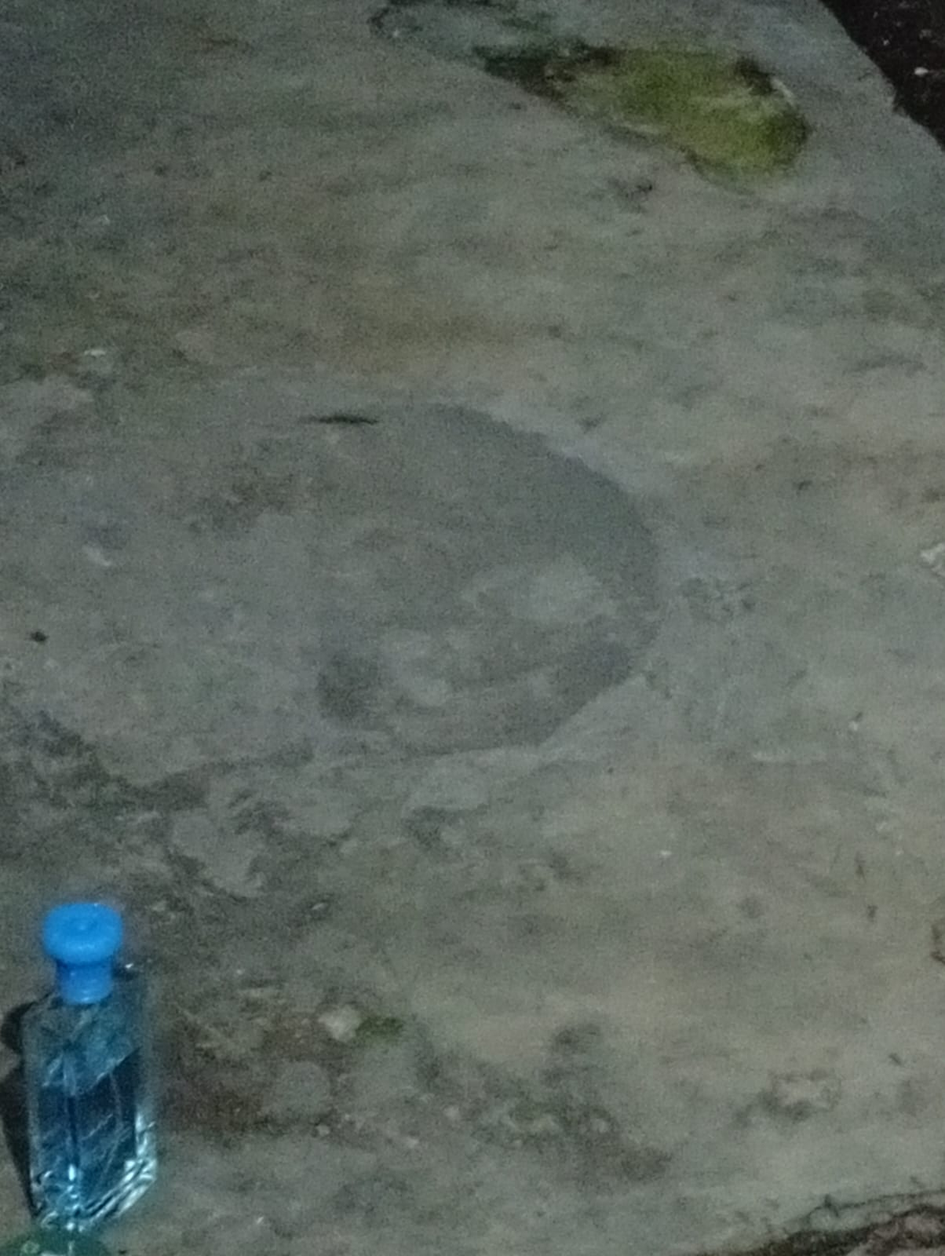Parfum: (3, 880, 201, 1248)
